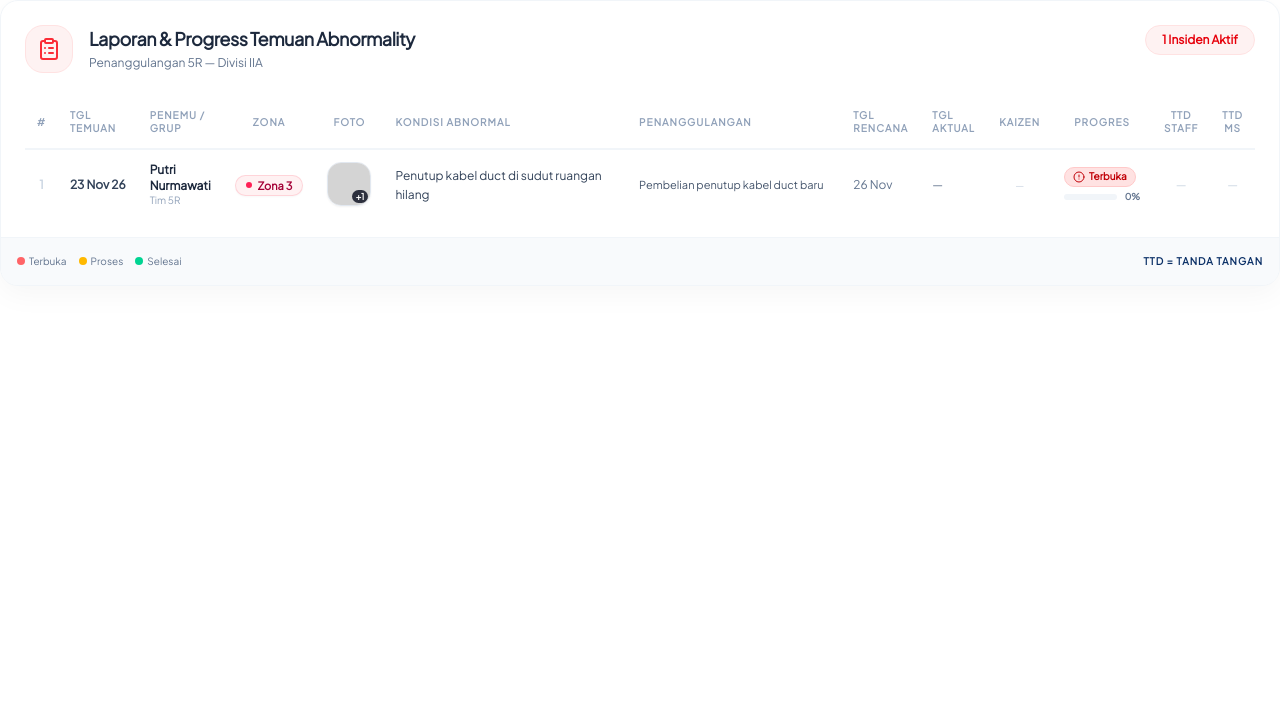
Test case: AbnormalityFeed photo thumbnails and lightbox modal › renders evidence photo thumbnail with multi-photo counter and opens lightbox with keyboard Escape
Later steps or results of the test are not shown.
Expected: the text "+1" is shown, [352, 190, 368, 203]
Click the button named "Lihat 2 foto temuan Zona 3". click: (349, 184)
box: [327, 162, 371, 206]
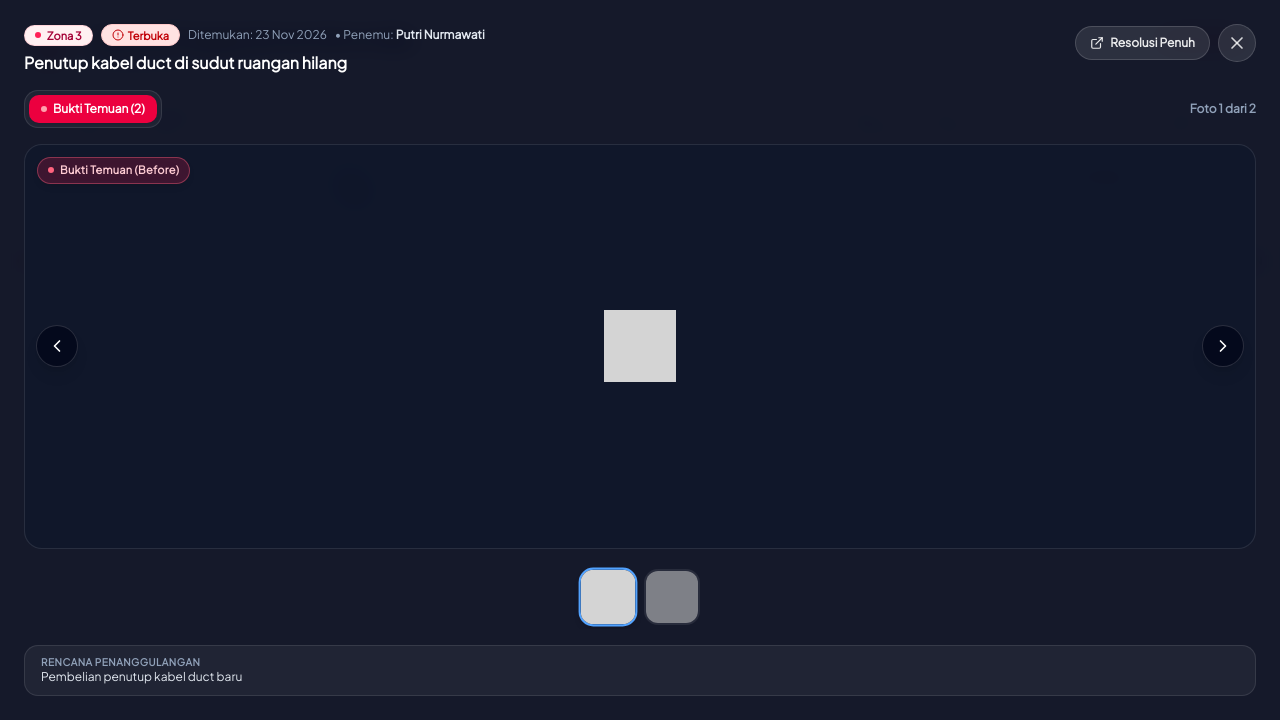
Now the dialog named "Dokumentasi Foto Temuan Zona 3" is shown
Now the text "Foto 1 dari 2" is shown, box [1190, 101, 1256, 117]
Press Arrowright
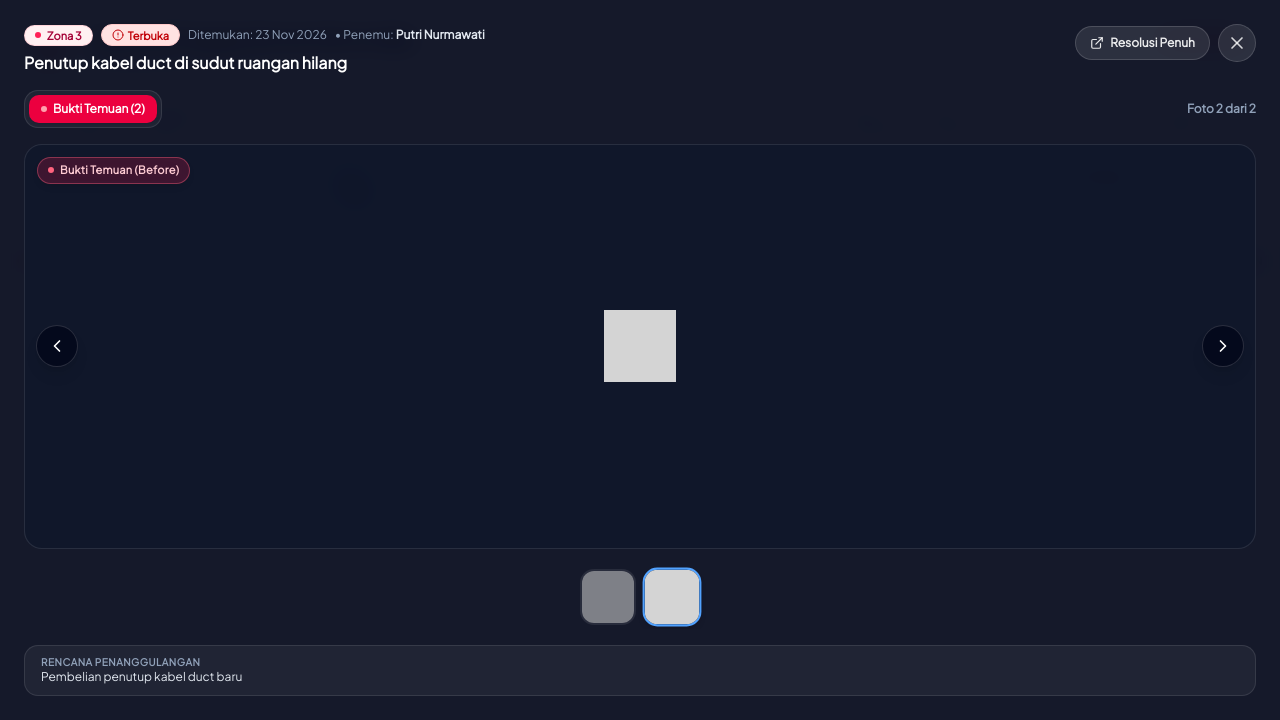
Now the text "Foto 2 dari 2" is shown, box [1187, 101, 1256, 117]
